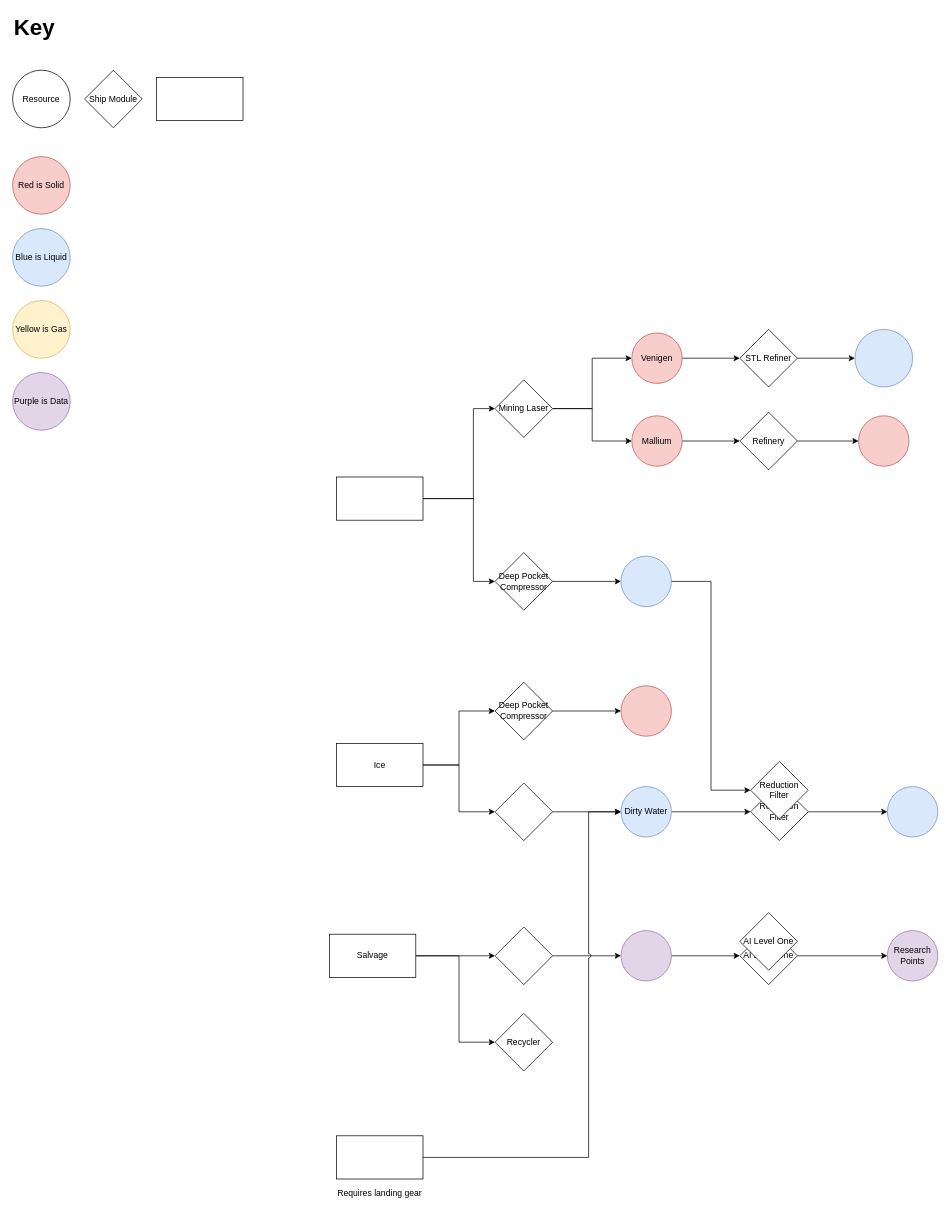
The diagram is 950 pixels wide and 1220 high, and some of its shapes have lost their labels. The shapes that lost their labels are listed below. From the top down, each one's centre as x and y in pixels, then its label:
At pixel 199 99: "World Object".
At pixel 883 358: "STL Fuel".
At pixel 883 440: "Titanium".
At pixel 379 498: "Asteroid".
At pixel 645 581: "Rist".
At pixel 645 710: "Glass".
At pixel 523 811: "Shallow Pocket Compressor".
At pixel 912 811: "Drinking Water".
At pixel 523 955: "Analyzer".
At pixel 645 955: "Disorganized Data".
At pixel 379 1157: "Planet".
